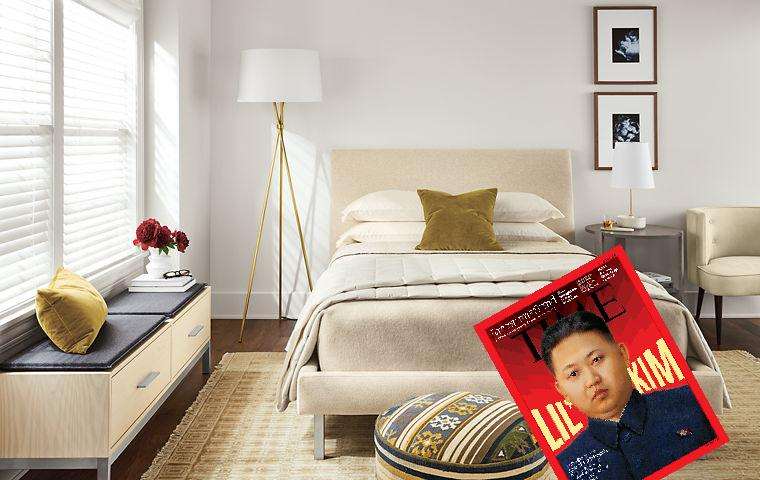times: (473, 244, 731, 480)
